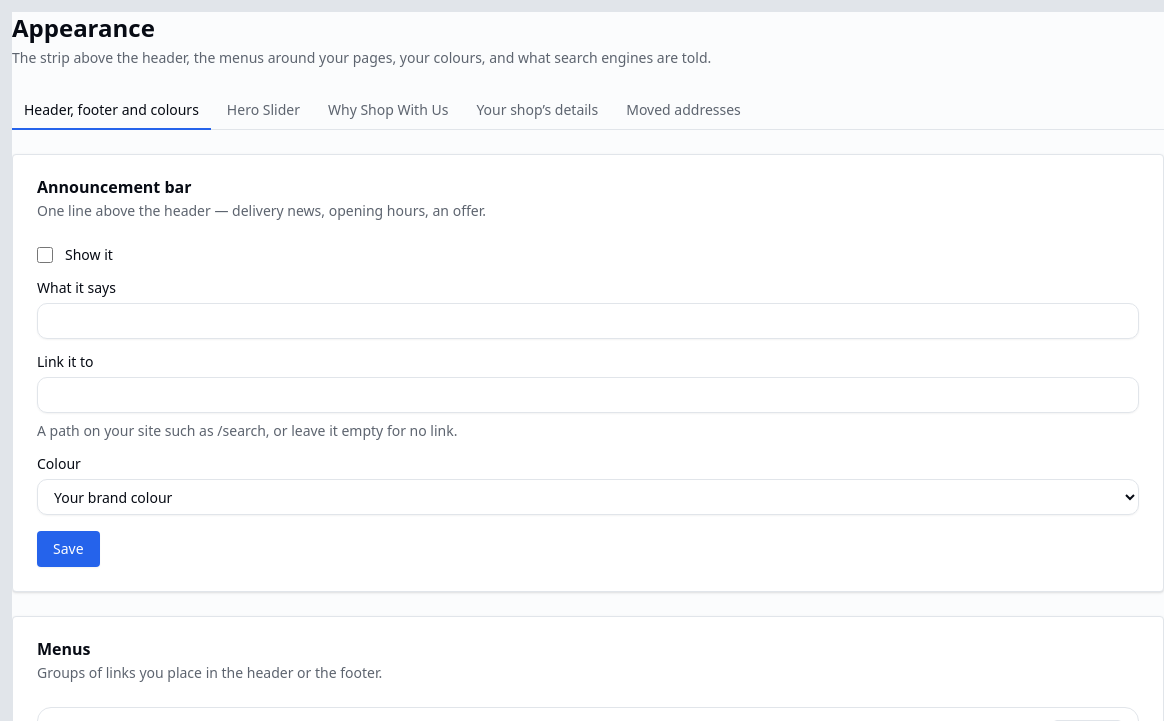
Test: the shop’s details › says which pictures are still missing
Click the tab "Your shop’s details".
click(537, 111)  # box [464,92,610,130]
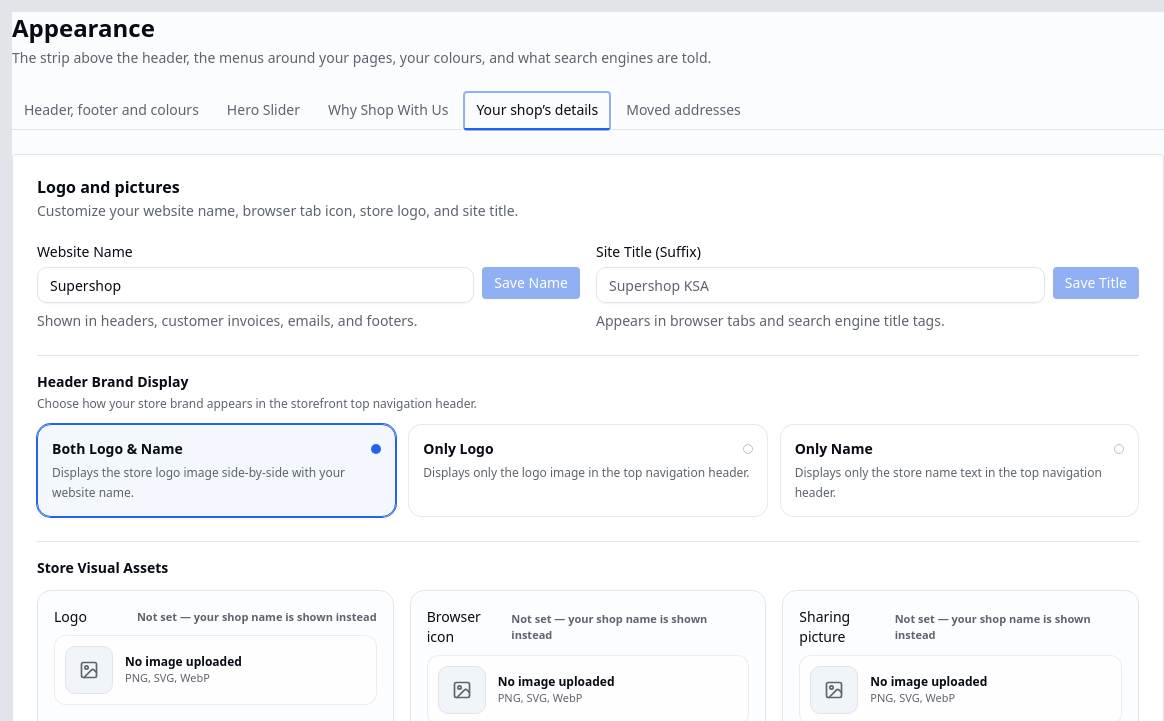
Expected: the text "Not set — your shop name is shown instead" is shown 3 times, [137,609,377,625]; [511,610,707,642]; [895,610,1122,644]
